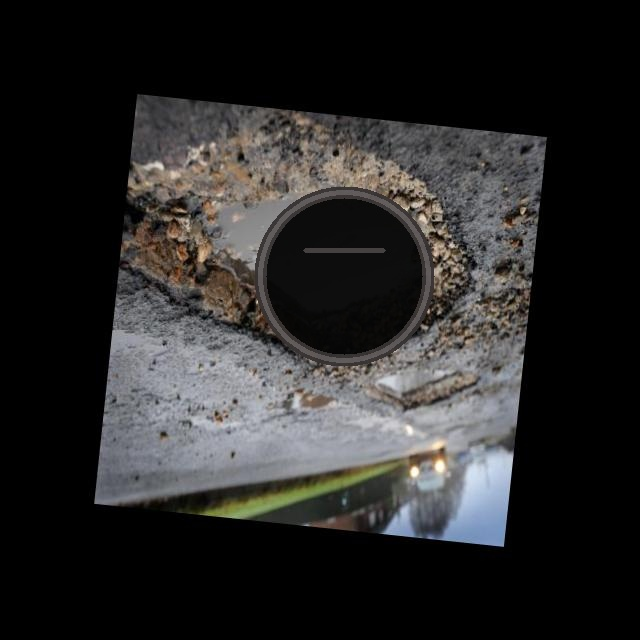open_manhole: (251, 183, 437, 369)
